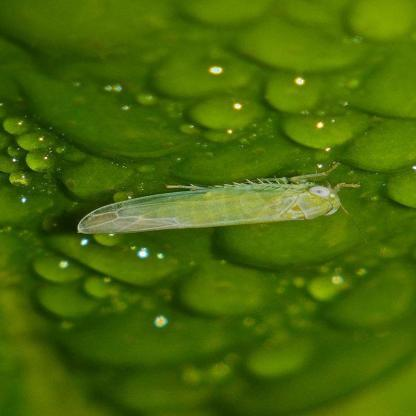green-leafhopper: (78, 175, 350, 236)
